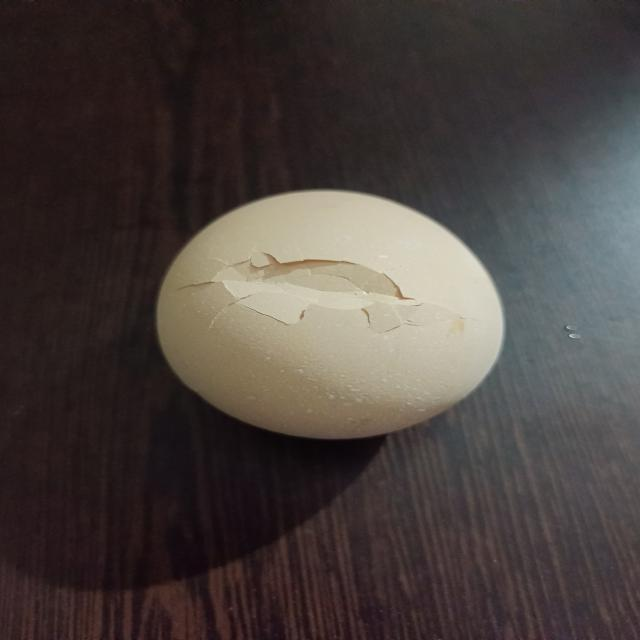biodegradable: (170, 189, 505, 436)
